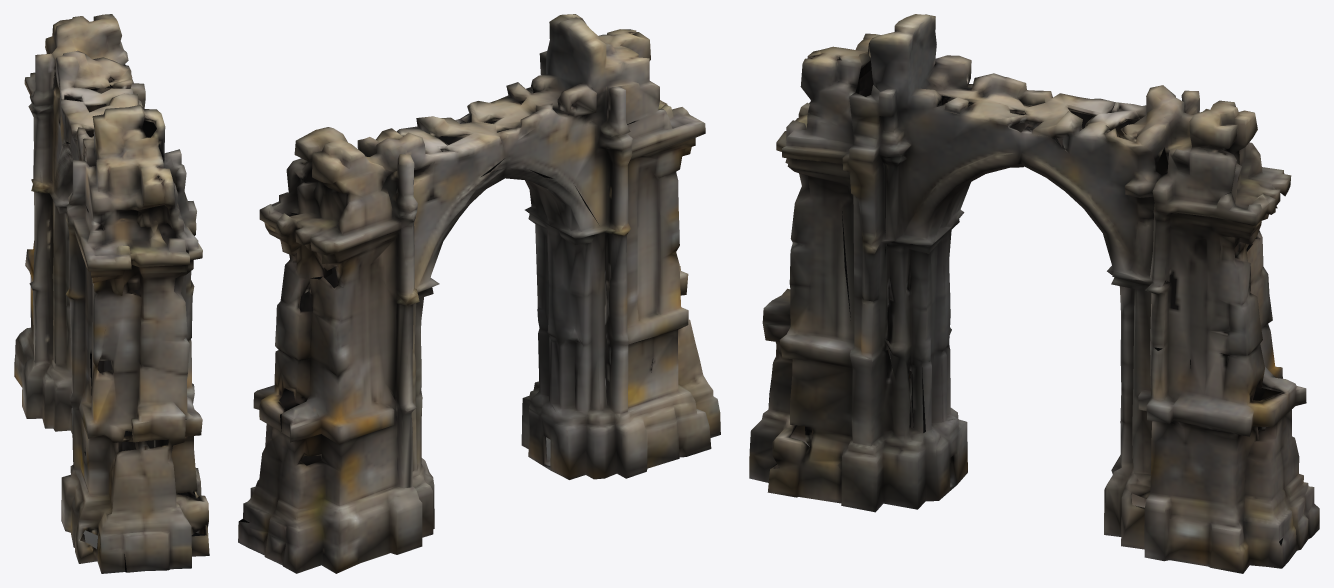
File: ruin.glb
3 views of the same model, side by side, from view 1: azimuth 30°, elevation 25°; view 2: azimuth 150°, elevation 25°; view 3: azimuth 270°, elevation 25° (orthographic). The views are drawn at different scales.
Visible parts, largest first — view 1: MV_ruin; view 2: MV_ruin; view 3: MV_ruin.
Boxes of the visible parts, x1=… form: MV_ruin: x1=14, y1=14, x2=209, y2=573; MV_ruin: x1=238, y1=14, x2=720, y2=573; MV_ruin: x1=749, y1=14, x2=1319, y2=573.
Bounding box in the file's own units: 1.17 × 1.8 × 2.02.
Materials: 1 (1 with a texture image).
